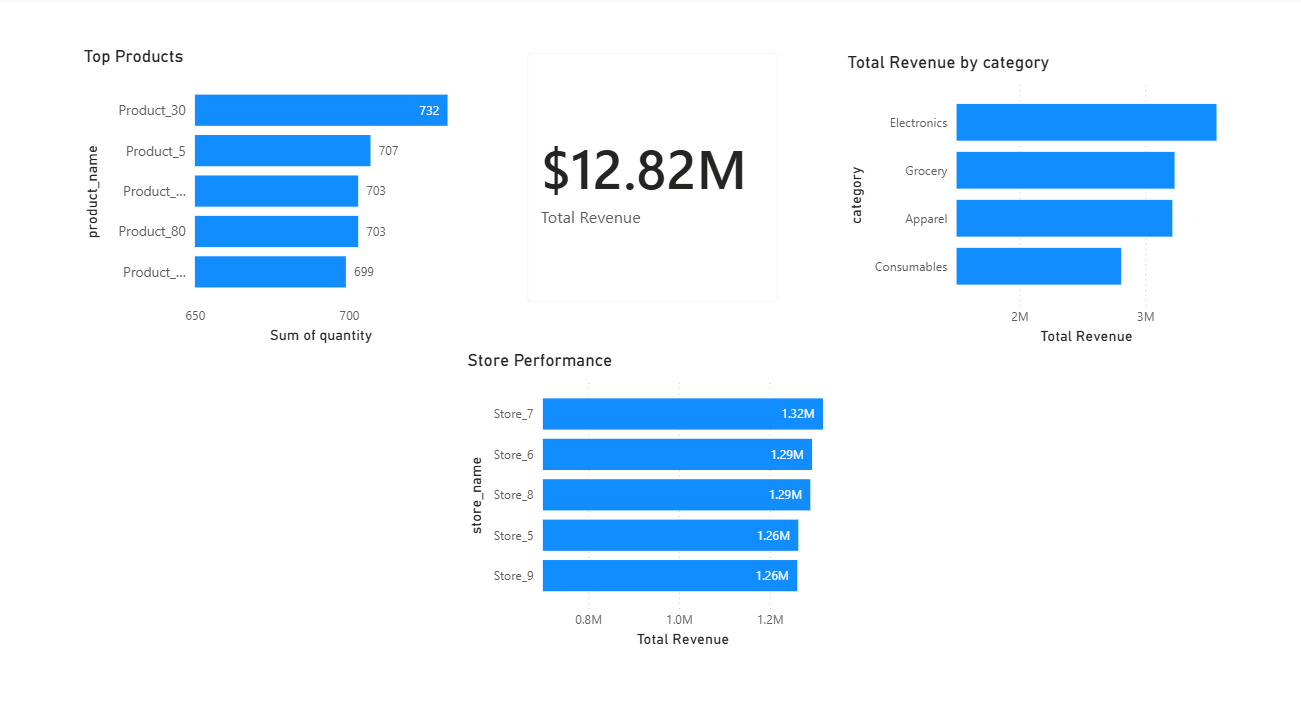

What the dashboard file says about the page in this screenshot:
{"tool":"powerbi","page":{"name":"Page 1","canvas":[1280,720],"ordinal":0},"visuals":[{"type":"cardVisual","fields":{"Data":["products.Total Revenue"]},"box":[499.5,38.4,279.9,278.6],"z":0},{"type":"clusteredBarChart","fields":{"Category":["products.category"],"Y":["products.Total Revenue"]},"box":[824.7,53.5,380.1,290.9],"z":1000},{"type":"clusteredBarChart","title":"Top Products","fields":{"Y":["Sum(sales.quantity)"],"Category":["products.product_name"]},"box":[76.8,48,376,296.4],"z":2000},{"type":"clusteredBarChart","title":"Store Performance","fields":{"Y":["products.Total Revenue"],"Category":["stores.store_name"]},"box":[452.8,344.4,371.9,296.4],"z":3000}]}

Visuals, with their boxes in screenshot pixels (x1, y1, x2, y2), scaled from the page's 1280x720 canvas onto the 1301x728 screenshot:
cardVisual - products.Total Revenue: detection(508, 39, 792, 321)
clusteredBarChart - products.category x products.Total Revenue: detection(838, 54, 1225, 348)
"Top Products" clusteredBarChart: detection(78, 49, 460, 348)
"Store Performance" clusteredBarChart: detection(460, 348, 838, 648)
